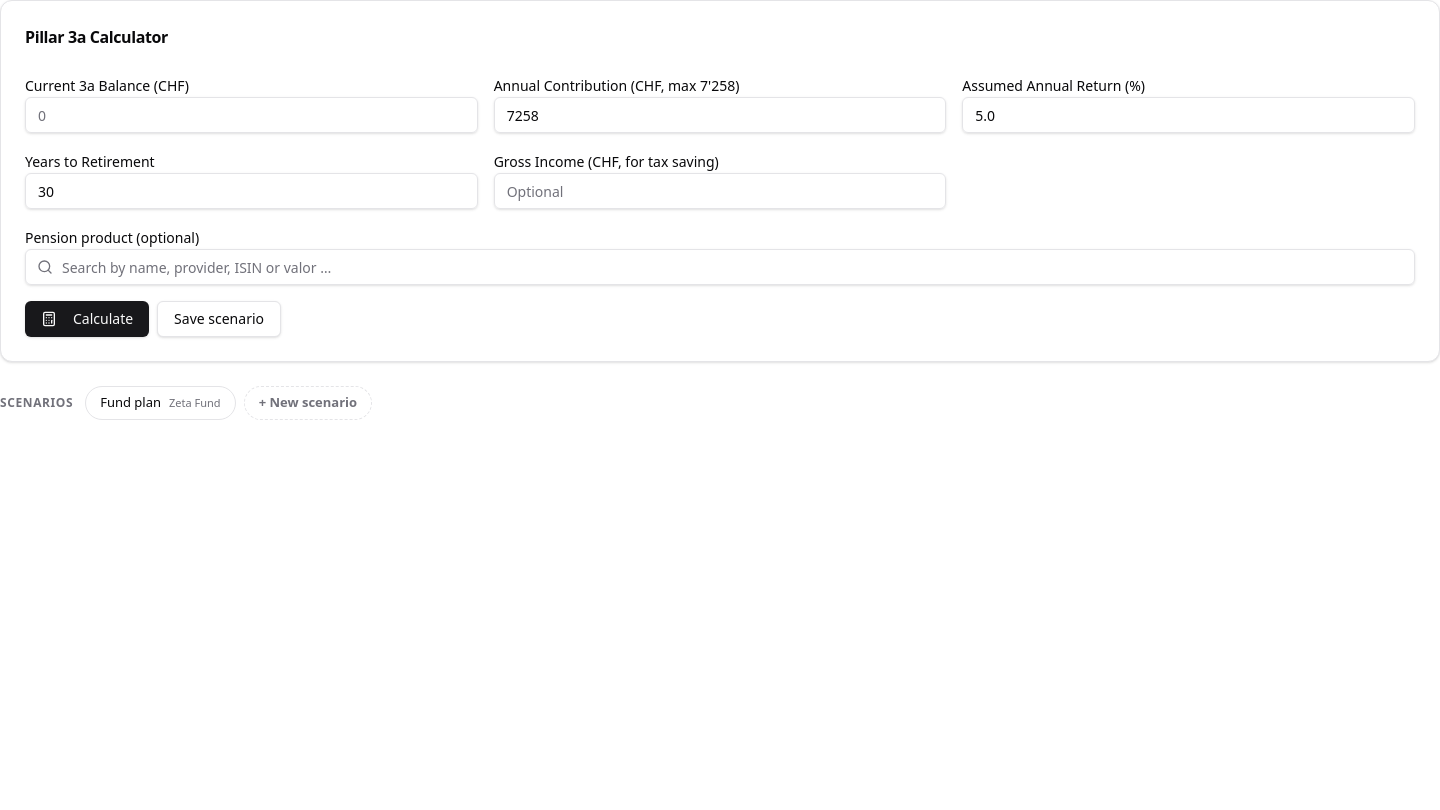
Scenario: CalculatorTab › opens the product detail dialog from the chip badge without selecting the scenario
Click the button with aria-label "Show details for Zeta Fund".
click(198, 403)  # box [161,388,235,417]
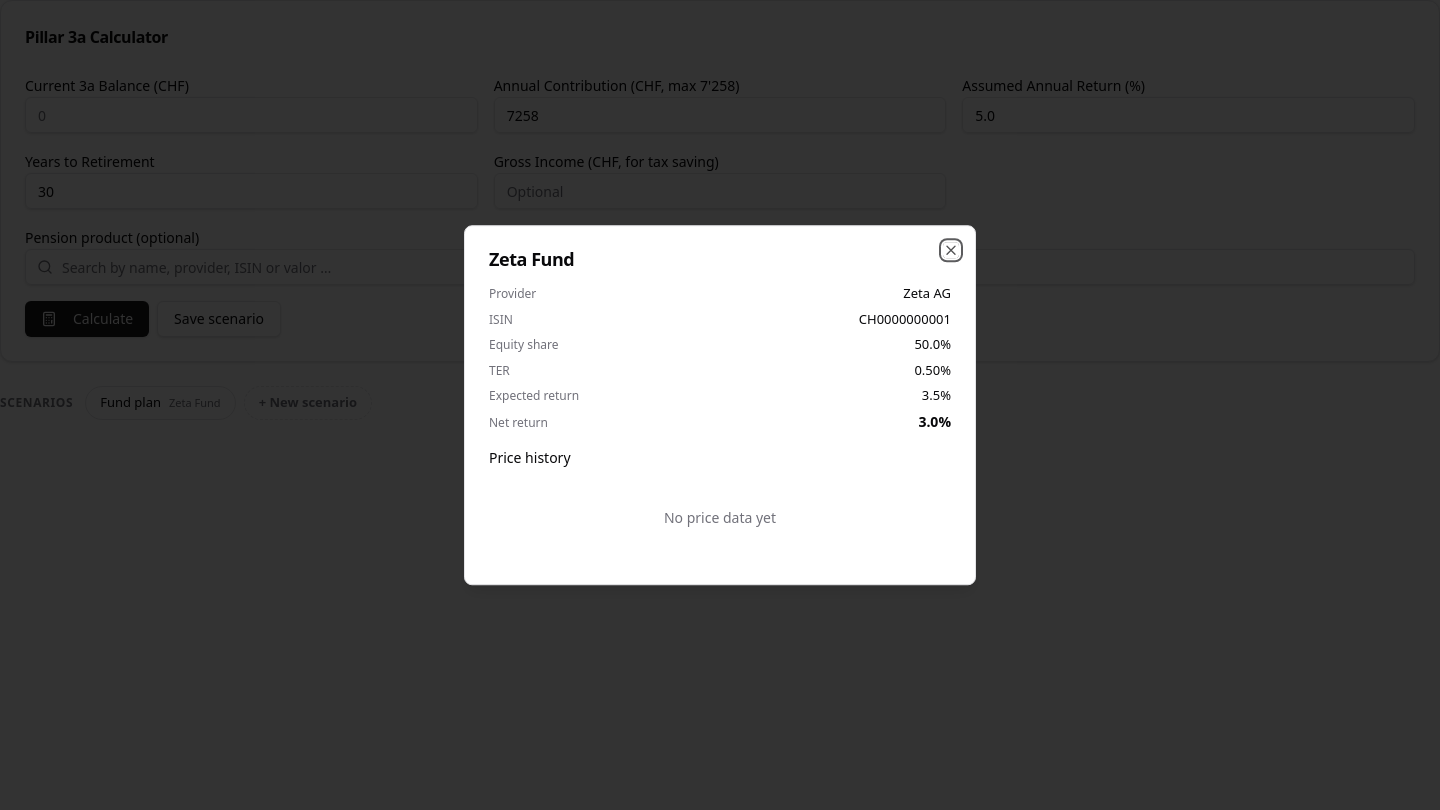
Expected: the heading "Zeta Fund" is shown, [489,247,574,271]
Expected: the text "No price data yet" is shown, [664,508,776,527]
